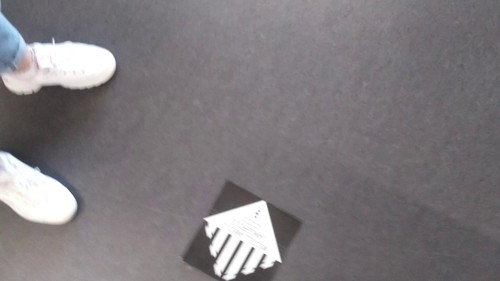misgoods: (201, 203, 285, 275)
